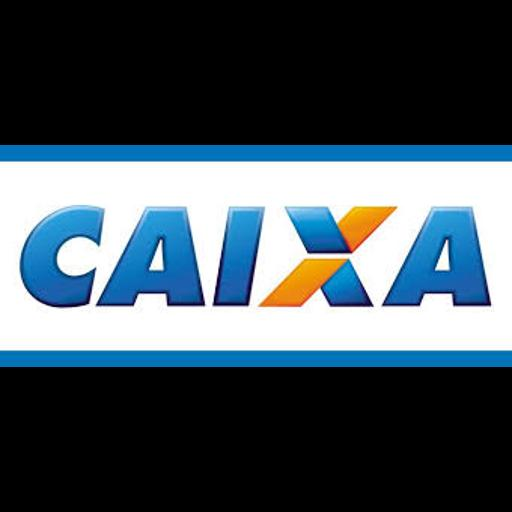Caixa Economica Federal: (0, 145, 512, 367)
